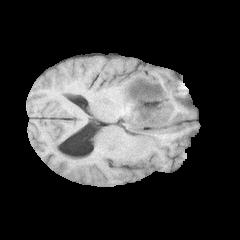glioma: (115, 72, 176, 134)
